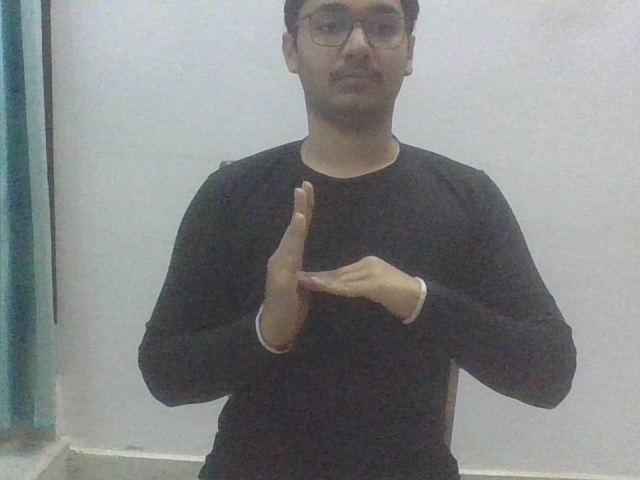Z: (259, 175, 409, 343)
